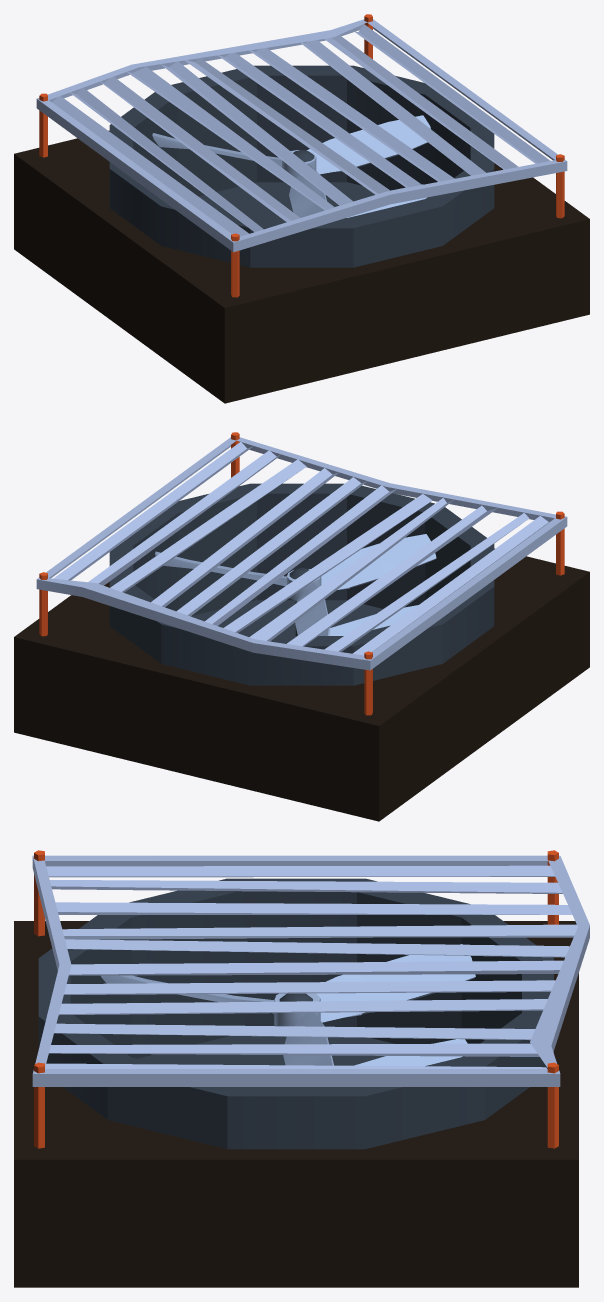
File: Ventilator.fbx
3 renders of one model, top to bottom at view 1: azimuth 30°, elevation 25°; view 2: azimuth 150°, elevation 25°; view 3: azimuth 270°, elevation 25°, orthographic. The views are drawn at different scales.
Visible parts, largest first — view 1: Case, Cylinder.008, grid, Gridcase, Rotor, rod; view 2: Case, Cylinder.008, grid, Gridcase, Rotor, rod, Rotor.001; view 3: Case, grid, Cylinder.008, Gridcase, Rotor, rod, Rotor.001.
Boxes of the visible parts, x1,y1,x2,y2 form: Case: [14, 130, 589, 403]; Cylinder.008: [109, 65, 494, 267]; grid: [52, 24, 550, 236]; Gridcase: [36, 19, 567, 252]; Rotor: [152, 115, 430, 217]; rod: [39, 14, 564, 297]; Case: [14, 548, 589, 821]; Cylinder.008: [109, 483, 494, 685]; grid: [53, 442, 550, 655]; Gridcase: [36, 437, 567, 670]; Rotor: [155, 534, 436, 635]; rod: [39, 432, 564, 715]; Rotor.001: [329, 605, 418, 635]; Case: [14, 921, 578, 1287]; grid: [45, 865, 577, 1068]; Cylinder.008: [38, 878, 553, 1149]; Gridcase: [32, 855, 589, 1086]; Rotor: [101, 944, 475, 1065]; rod: [34, 850, 558, 1148]; Rotor.001: [354, 1039, 467, 1066].
Bounding box in the file's own units: 93.17 × 38.15 × 95.02.
